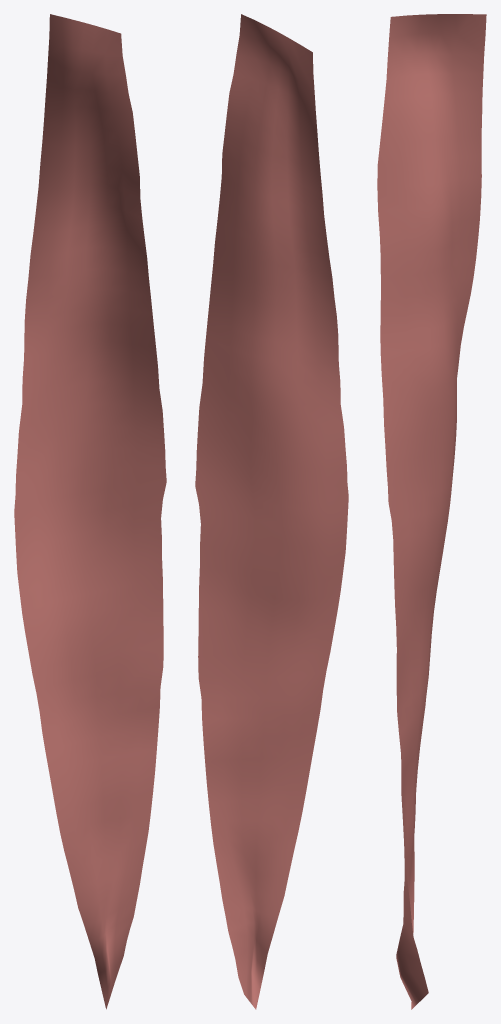
The picture shows the model from 3 angles, left to right: view 1: azimuth 30°, elevation 25°; view 2: azimuth 210°, elevation 25°; view 3: azimuth 270°, elevation 25°; orthographic projection.
Parts seen in each view (by area): view 1: ZA_457d3a4f097ce51e; view 2: ZA_457d3a4f097ce51e; view 3: ZA_457d3a4f097ce51e.
Boxes of the visible parts, x1,y1,x2,y2 form: ZA_457d3a4f097ce51e: (14,14,166,1009); ZA_457d3a4f097ce51e: (195,14,348,1009); ZA_457d3a4f097ce51e: (377,14,486,1009).
Bounding box in the file's own units: 0.0359 × 0.2674 × 0.0266.
